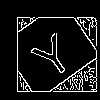Y: (24, 24, 77, 81)
